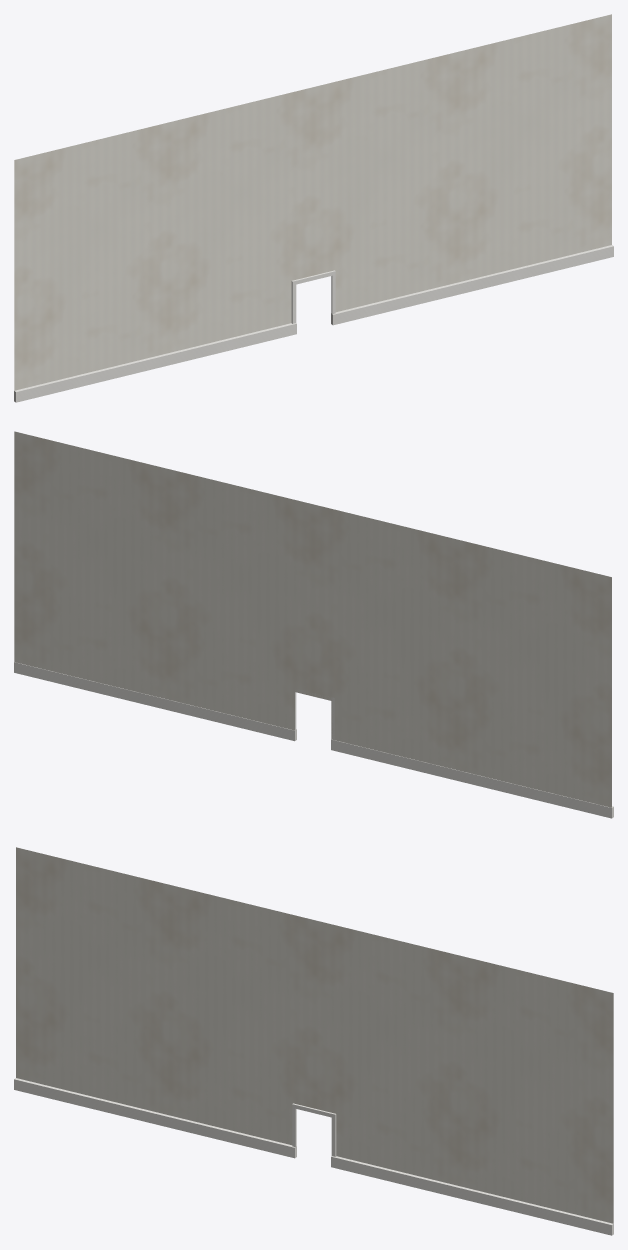
Rendered from wall8_vent.gltf.
The picture shows the model from 3 angles, top to bottom: view 1: azimuth 30°, elevation 25°; view 2: azimuth 150°, elevation 25°; view 3: azimuth 330°, elevation 25°; orthographic projection.
Visible parts, largest first — view 1: jx_w8_vent; view 2: jx_w8_vent; view 3: jx_w8_vent.
Boxes of the visible parts, left/top/right/bottom form: jx_w8_vent: left=14, top=14, right=613, bottom=402; jx_w8_vent: left=14, top=431, right=613, bottom=818; jx_w8_vent: left=14, top=847, right=613, bottom=1235.
Bounding box in the file's own units: 8.3 × 3.2 × 0.05.
2 materials, 2 textured.
